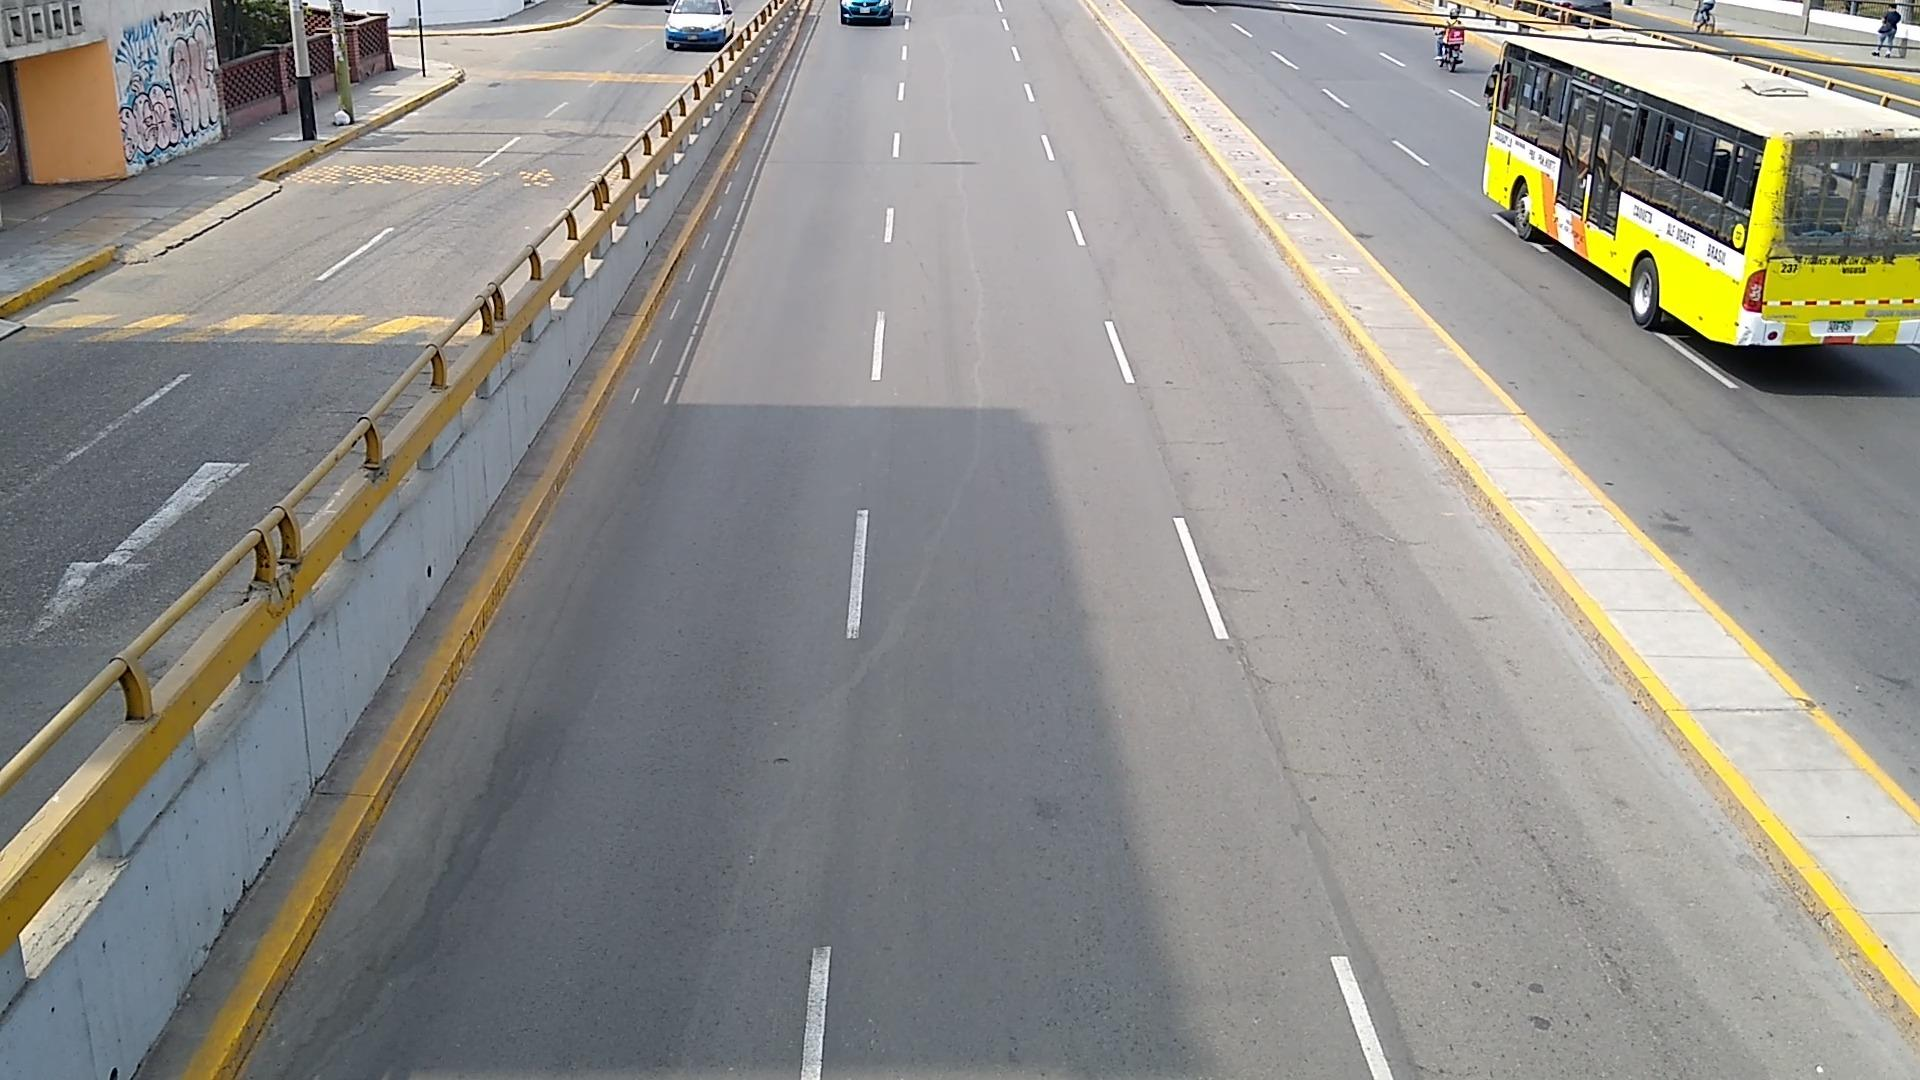bus: (1481, 38, 1920, 347)
car: (664, 0, 735, 49), (840, 0, 892, 26)
motorcyclist: (1436, 11, 1466, 71)
